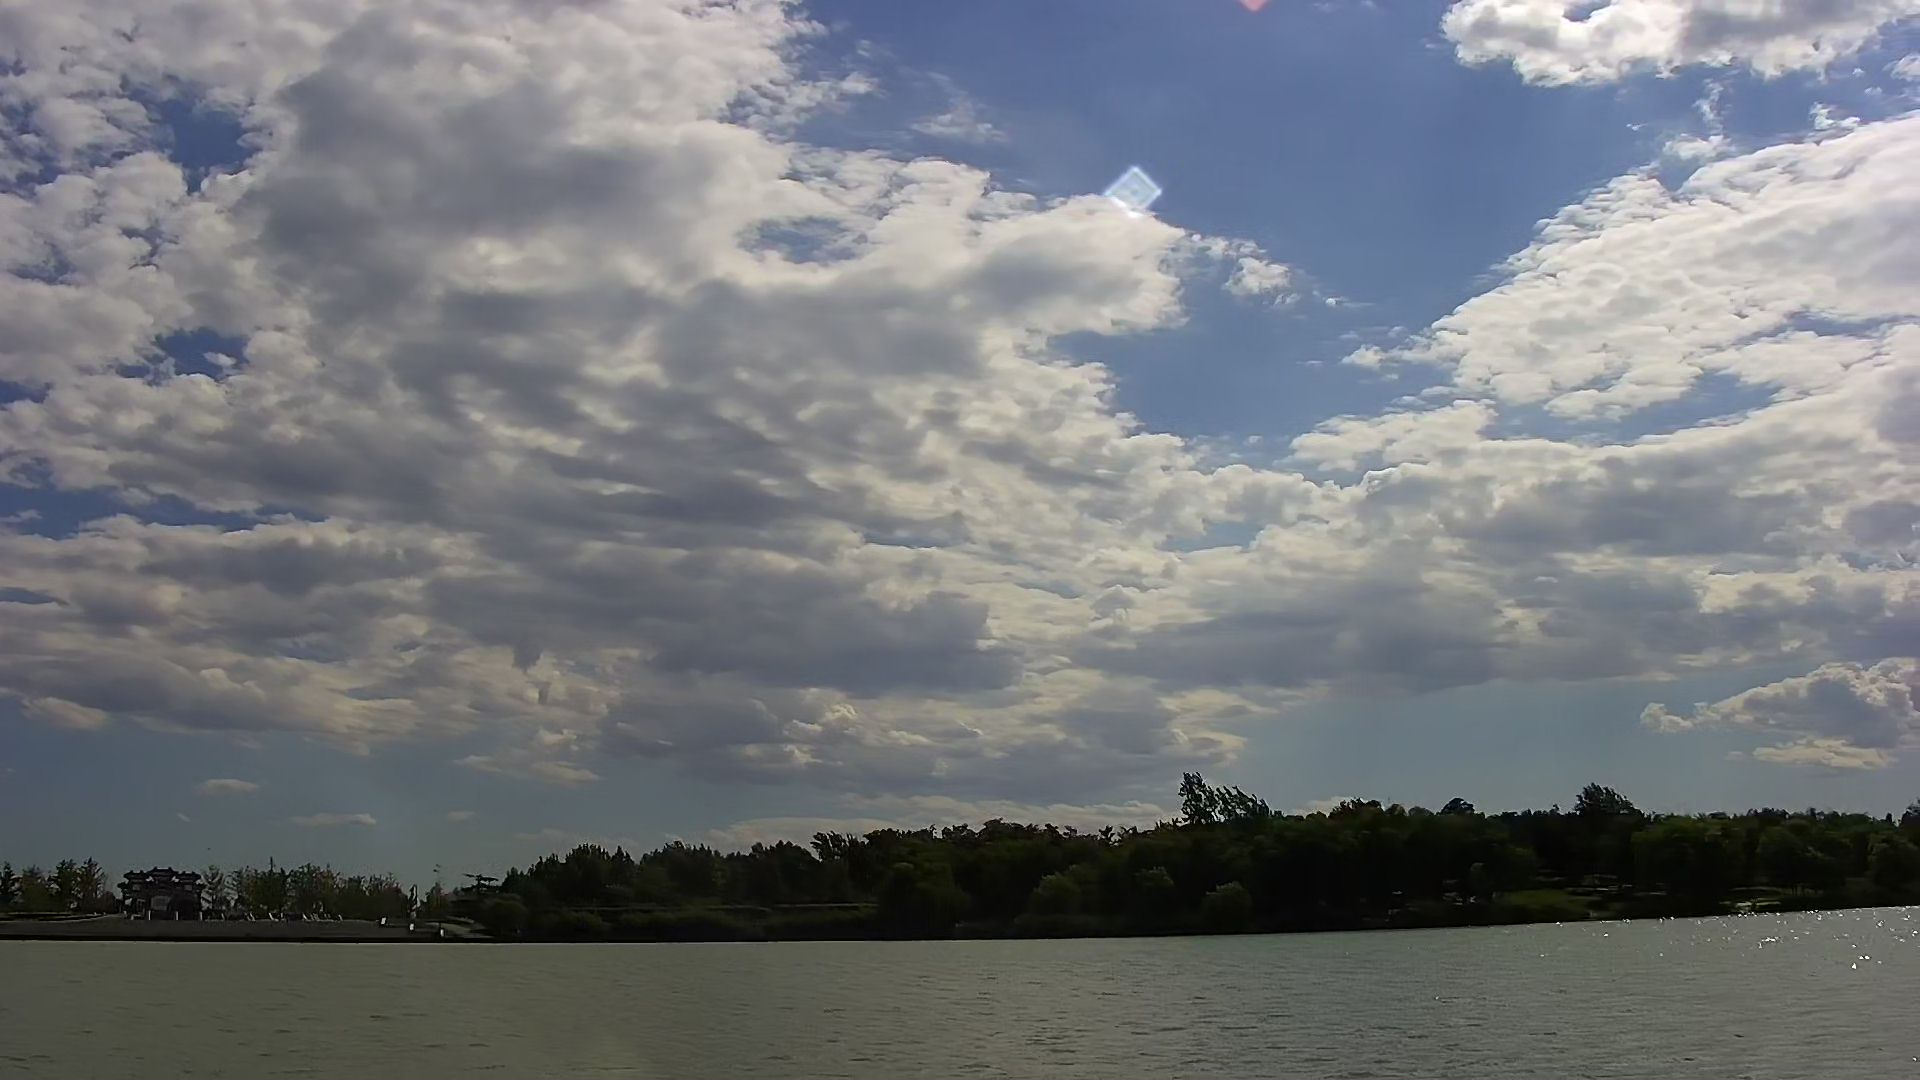harbor: (21, 894, 502, 945)
